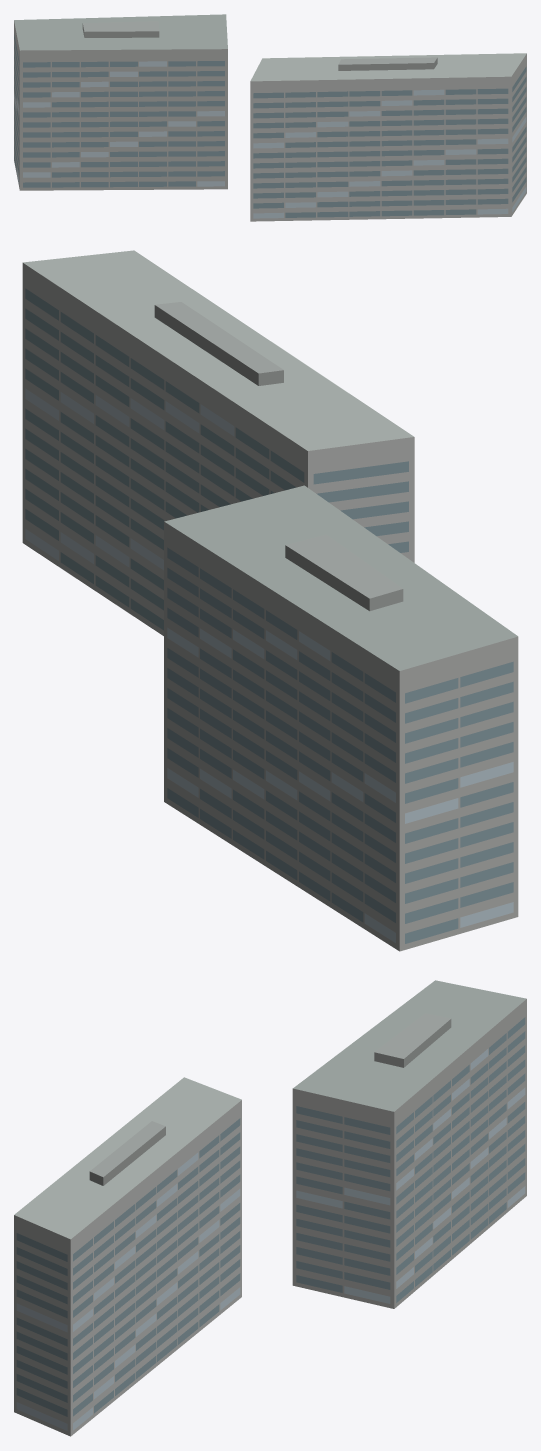
Rendered from apt-a13883601.glb.
3 renders of one model, top to bottom at view 1: azimuth 30°, elevation 25°; view 2: azimuth 150°, elevation 25°; view 3: azimuth 270°, elevation 25°, orthographic. The views are drawn at different scales.
Visible parts, largest first — view 1: apt-a13883601; view 2: apt-a13883601; view 3: apt-a13883601.
Boxes of the visible parts, x1=… form: apt-a13883601: x1=14, y1=14, x2=526, y2=221; apt-a13883601: x1=22, y1=250, x2=518, y2=951; apt-a13883601: x1=14, y1=980, x2=526, y2=1436.
Size of the model in its own units: 120 by 44.62 by 101.
